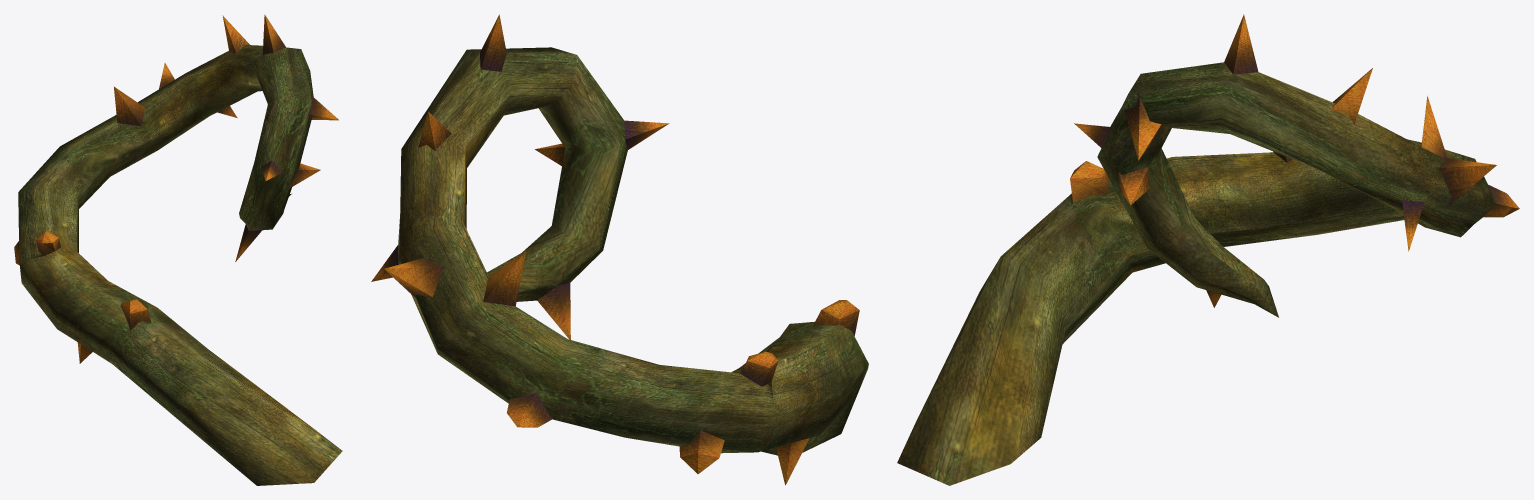
The model's file is obj_thorn_00.glb.
The picture shows the model from 3 angles, left to right: view 1: azimuth 30°, elevation 25°; view 2: azimuth 150°, elevation 25°; view 3: azimuth 270°, elevation 25°; orthographic projection. The views are drawn at different scales.
Visible parts, largest first — view 1: obj_thorn_00; view 2: obj_thorn_00; view 3: obj_thorn_00.
Boxes of the visible parts, box(x1,y1,x2,y2) form: obj_thorn_00: box(14, 14, 342, 485); obj_thorn_00: box(371, 14, 868, 485); obj_thorn_00: box(897, 14, 1519, 485).
Bounding box in the file's own units: 6.07 × 7.82 × 8.82.
Materials: 1 (1 with a texture image).
